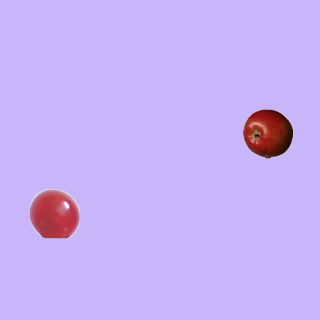Apple Braeburn: (242, 108, 292, 158)
Redcurrant: (29, 188, 79, 238)
